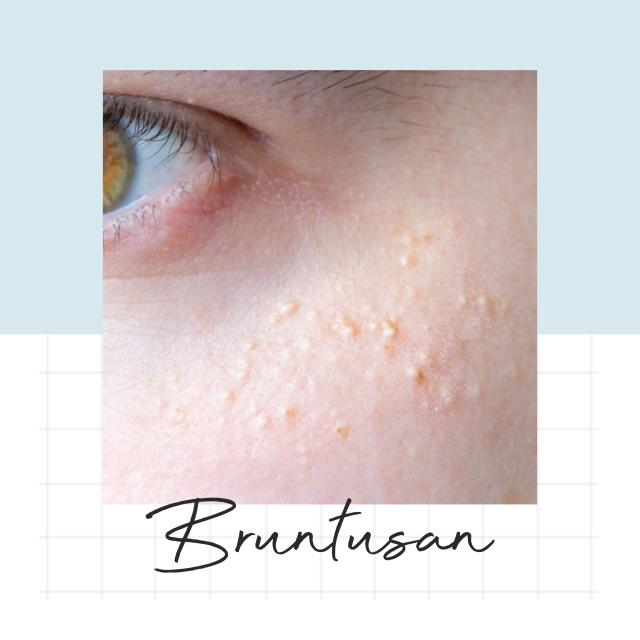Acne: (152, 202, 532, 500)
